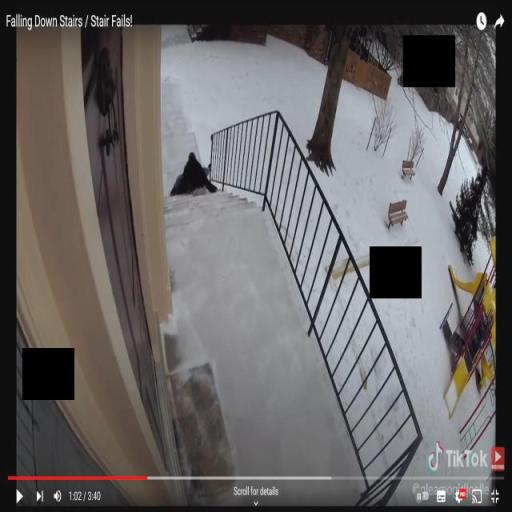Fall: (168, 146, 221, 199)
